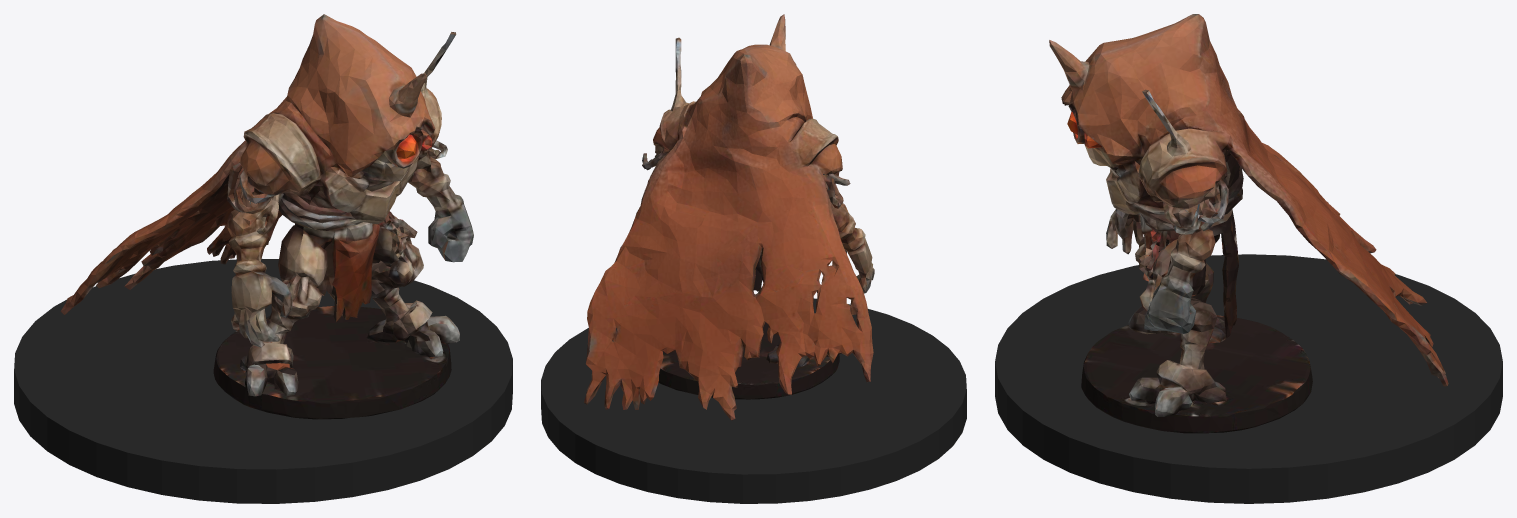
The model's file is hc-sicarian-ruststalker-princeps.glb.
3 renders of one model, left to right at view 1: azimuth 30°, elevation 25°; view 2: azimuth 150°, elevation 25°; view 3: azimuth 270°, elevation 25°, orthographic. The views are drawn at different scales.
Visible parts, largest first — view 1: figure, base; view 2: figure, base; view 3: base, figure.
Part boxes in pixels (box(x1,y1,x2,y2)): figure: box(60, 14, 473, 419); base: box(14, 259, 512, 503); figure: box(584, 14, 874, 420); base: box(541, 298, 966, 503); base: box(995, 254, 1502, 503); figure: box(1049, 14, 1448, 433).
Bounding box in the file's own units: 1.57 × 1.37 × 1.57.
Materials: 2 (1 with a texture image).
